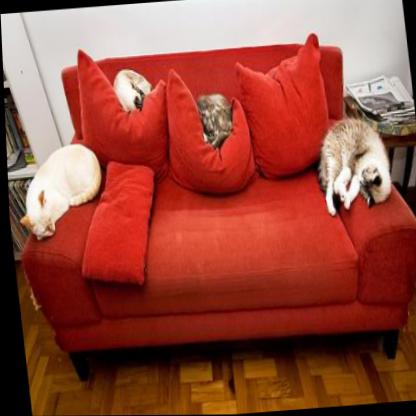Sofa: (1, 33, 416, 390)
